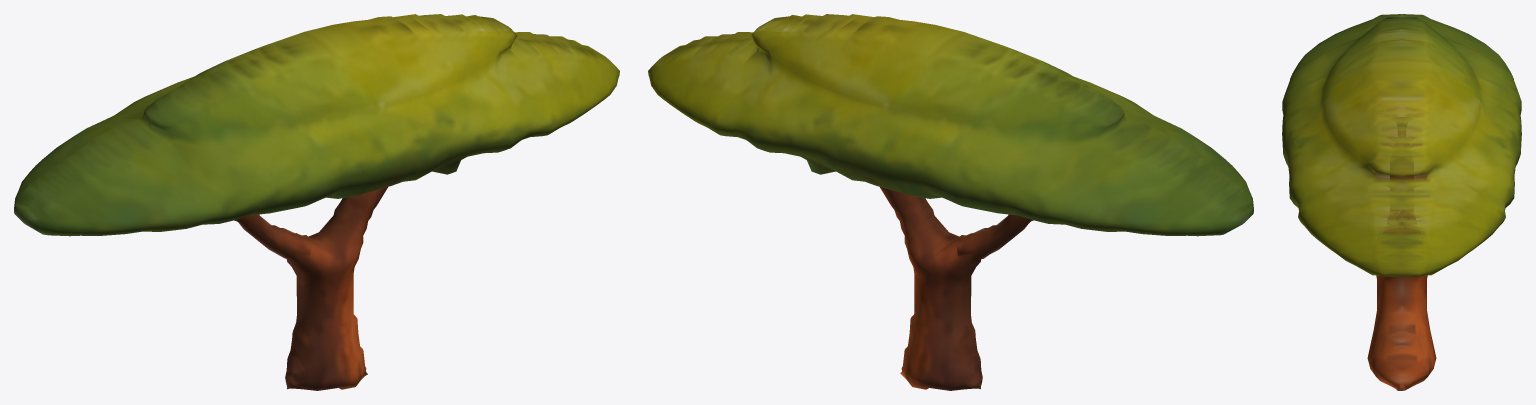
Rendered from 02_acacia_trees_r02_c00.glb.
3 views of the same model, side by side, from view 1: azimuth 30°, elevation 25°; view 2: azimuth 150°, elevation 25°; view 3: azimuth 270°, elevation 25° (orthographic). The views are drawn at different scales.
Visible parts, largest first — view 1: 02_acacia_trees_r02_c00; view 2: 02_acacia_trees_r02_c00; view 3: 02_acacia_trees_r02_c00.
Boxes of the visible parts, x1,y1,x2,y2 form: 02_acacia_trees_r02_c00: [14, 14, 619, 390]; 02_acacia_trees_r02_c00: [648, 14, 1253, 390]; 02_acacia_trees_r02_c00: [1282, 14, 1521, 390].
Size of the model in its own units: 2.31 by 1.29 by 0.9028.
1 material, 1 textured.
